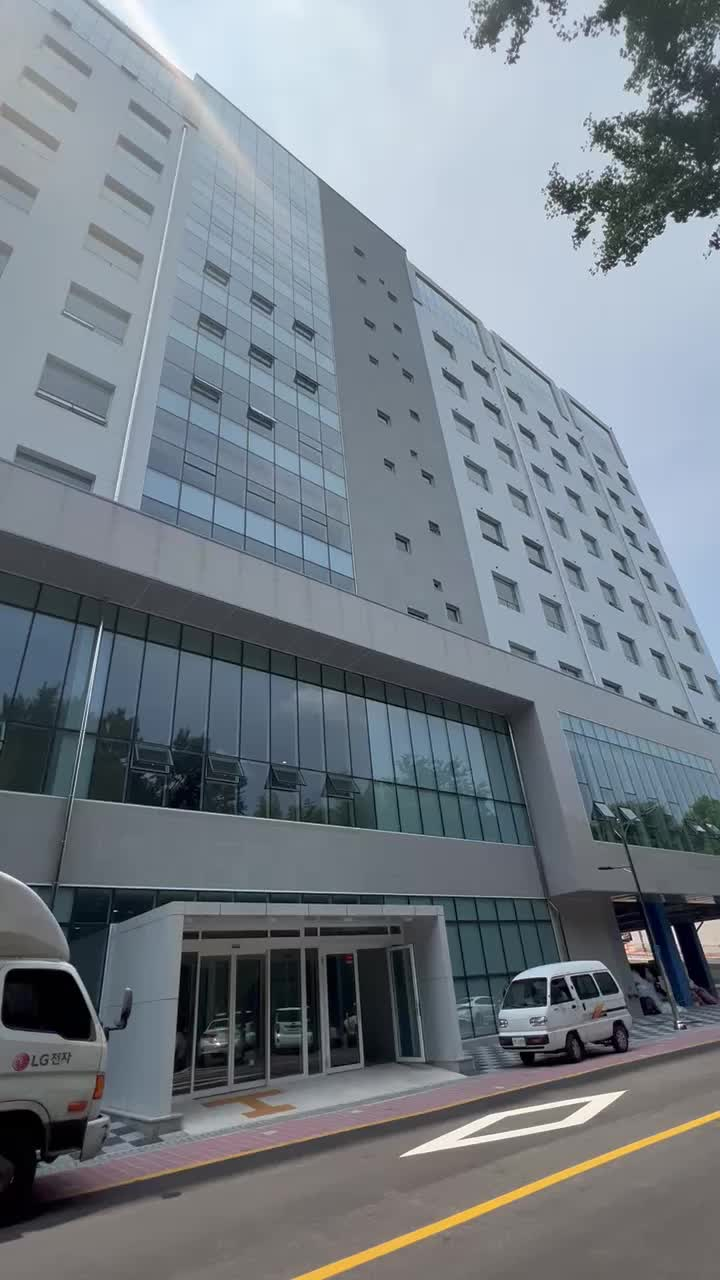medium: (0, 58, 698, 894)
